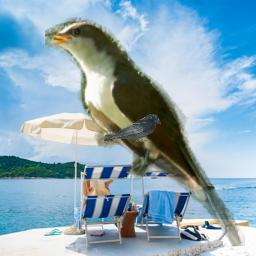Crow: (103, 114, 161, 142)
Cuckoo: (45, 16, 245, 246)
